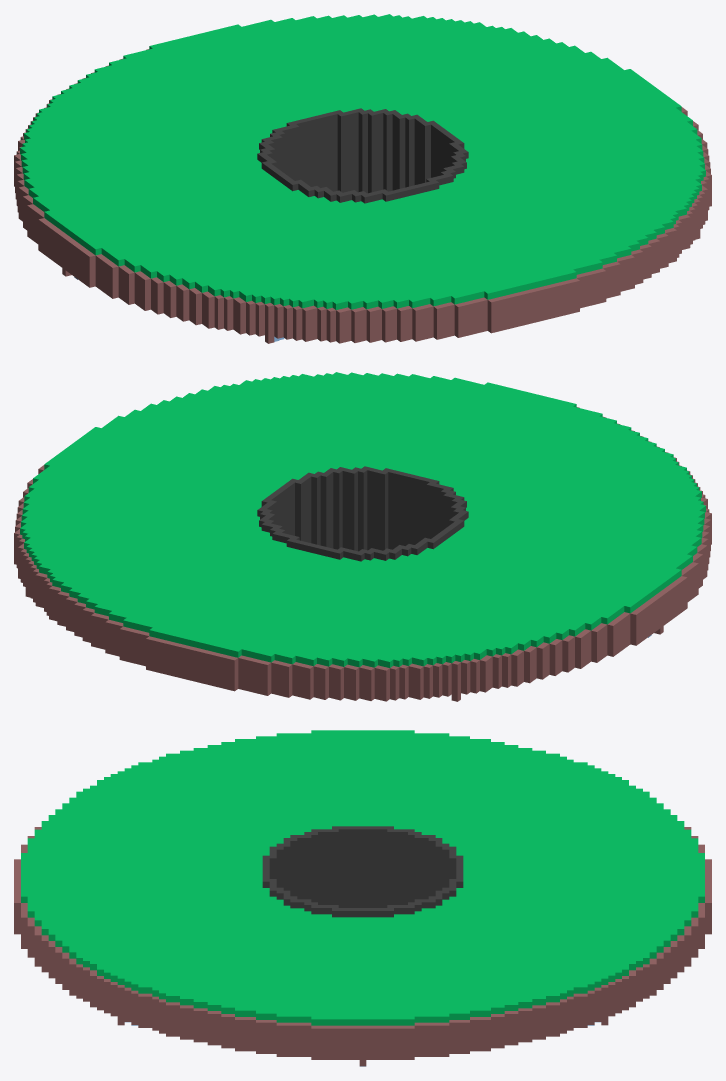
The model's file is ground.obj.
3 renders of one model, top to bottom at view 1: azimuth 30°, elevation 25°; view 2: azimuth 150°, elevation 25°; view 3: azimuth 270°, elevation 25°, orthographic.
Visible parts, largest first — view 1: ground; view 2: ground; view 3: ground.
Boxes of the visible parts, x1,y1,x2,y2 form: ground: (14, 14, 711, 343); ground: (14, 372, 711, 701); ground: (14, 730, 711, 1066).
Size of the model in its own units: 101 by 17 by 101.
1 material, 1 textured.
